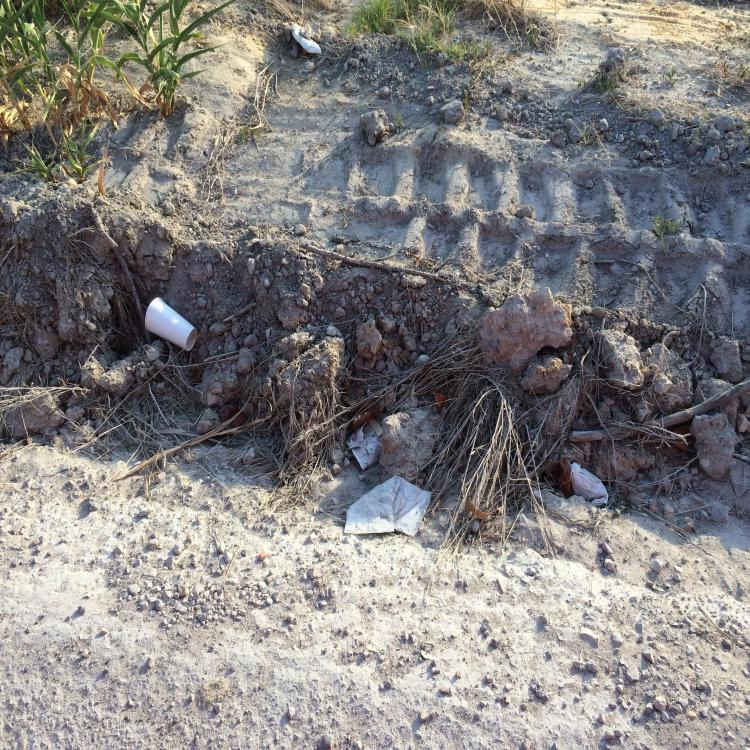Cigarette: (419, 521, 424, 533)
Other carton: (346, 417, 384, 471)
Other plastic: (343, 476, 431, 537)
Paper cup: (146, 298, 197, 351)
Unlabeled litter: (570, 463, 607, 507), (453, 36, 461, 44)
